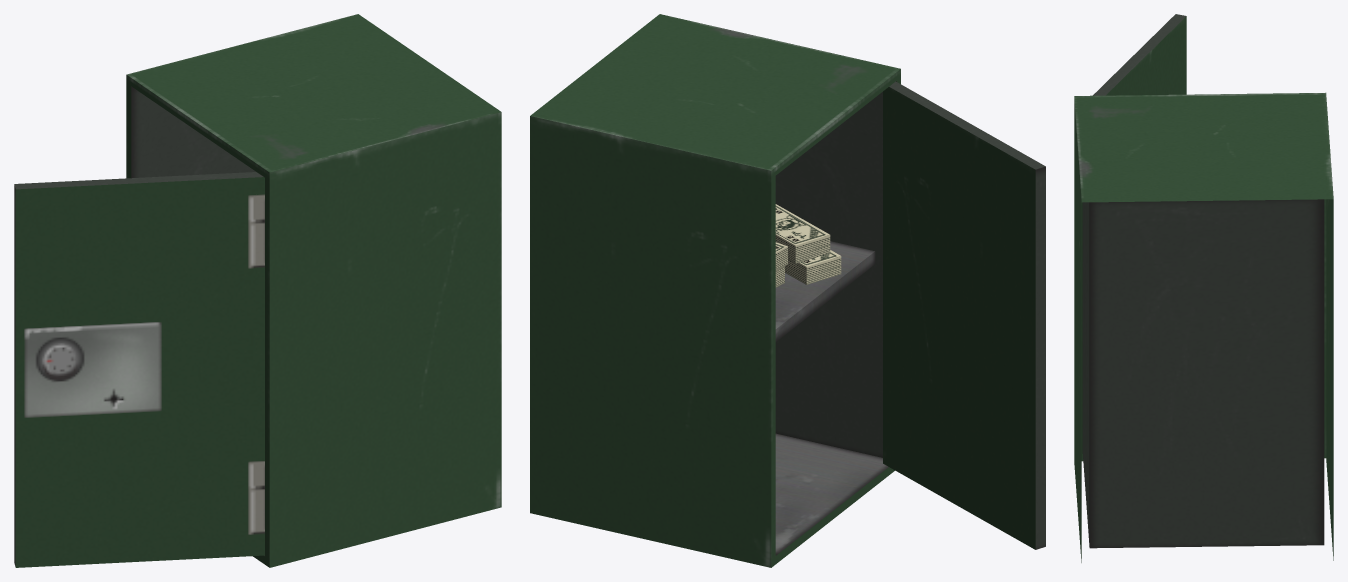
Rendered from SafeVault.FBX.
The picture shows the model from 3 angles, left to right: view 1: azimuth 30°, elevation 25°; view 2: azimuth 150°, elevation 25°; view 3: azimuth 270°, elevation 25°; orthographic projection. The views are drawn at different scales.
Visible parts, largest first — view 1: Safe; view 2: Safe; view 3: Safe.
Boxes of the visible parts, <box> form: Safe: <box>14,14,501,567</box>; Safe: <box>530,14,1045,567</box>; Safe: <box>1074,14,1333,562</box>.
Size of the model in its own units: 125 by 109 by 70.07.
